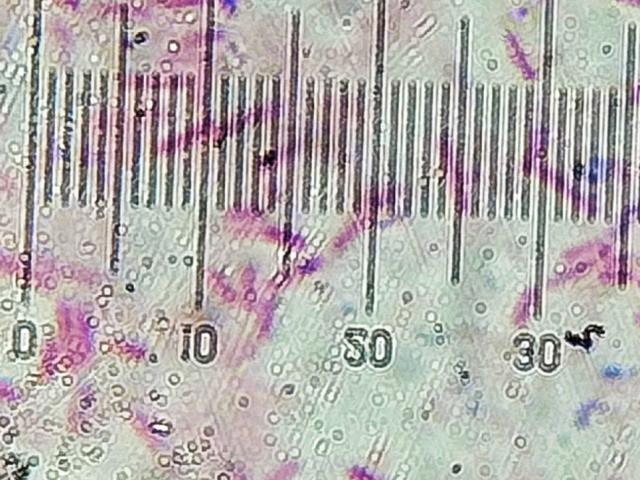E. coli: (502, 30, 532, 75), (72, 310, 96, 361), (560, 238, 606, 264), (342, 450, 381, 480), (43, 260, 88, 285), (256, 226, 302, 250), (333, 223, 363, 258), (506, 287, 529, 329), (206, 267, 233, 302), (235, 262, 259, 301), (162, 0, 204, 22), (119, 335, 148, 361), (261, 296, 279, 335), (285, 256, 311, 281), (55, 307, 68, 351), (265, 53, 267, 54)
